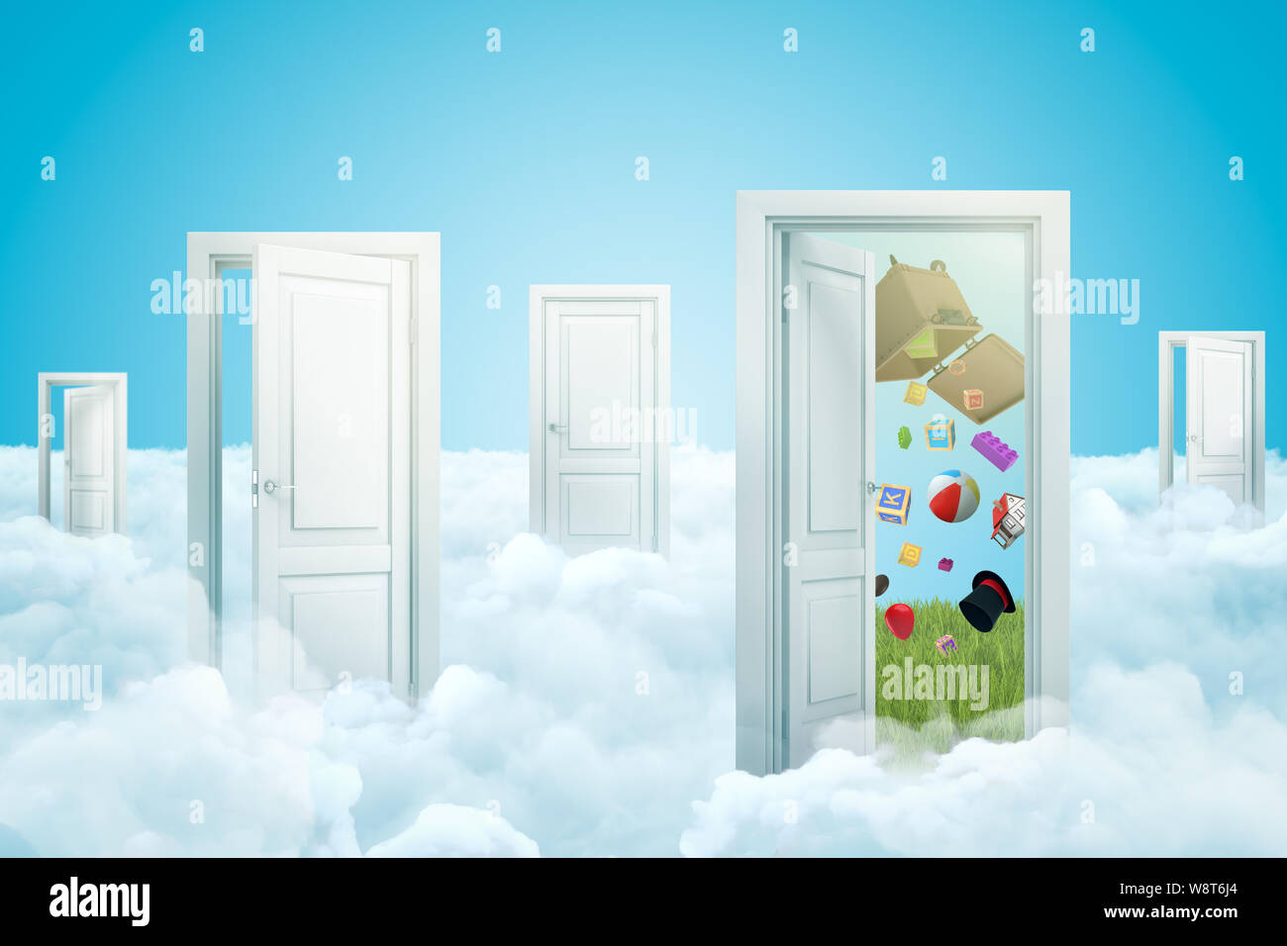not a gesture sign: (701, 137, 1196, 840)
